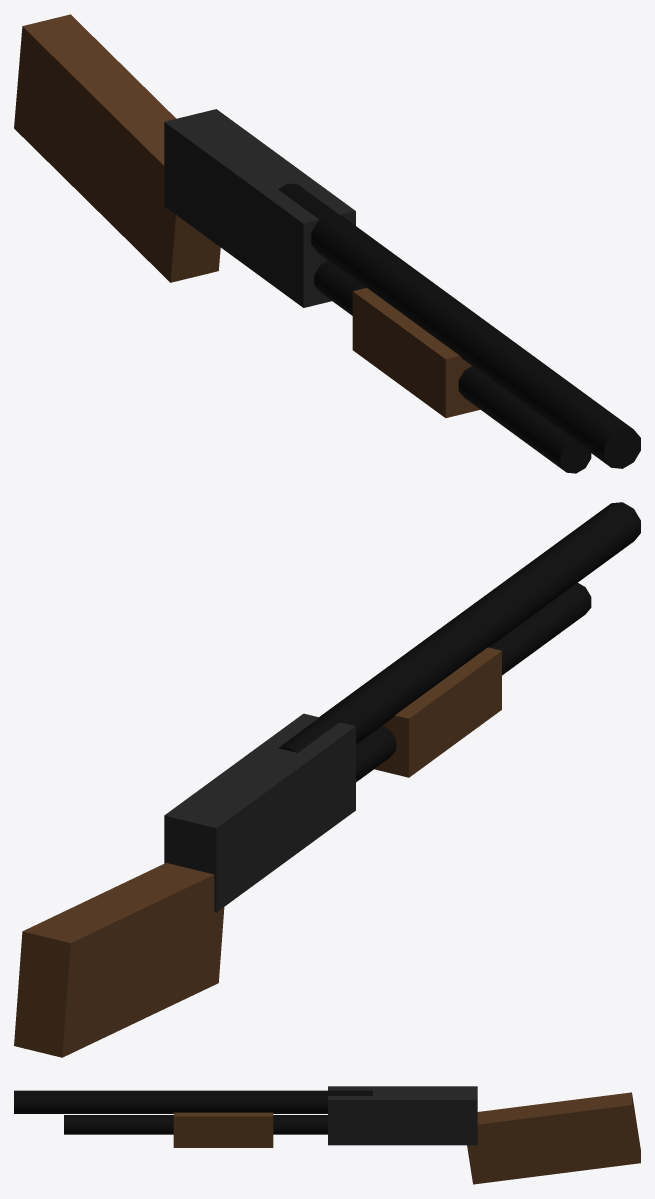
File: shotgun.glb
3 views of the same model, one above another, from view 1: azimuth 30°, elevation 25°; view 2: azimuth 150°, elevation 25°; view 3: azimuth 270°, elevation 25° (orthographic). The views are drawn at different scales.
Visible parts, largest first — view 1: shotgun; view 2: shotgun; view 3: shotgun.
Boxes of the visible parts, x1=… form: shotgun: x1=14, y1=14, x2=640, y2=473; shotgun: x1=14, y1=502, x2=640, y2=1057; shotgun: x1=14, y1=1086, x2=640, y2=1184.
Bounding box in the file's own units: 0.07 × 0.192 × 1.26.
